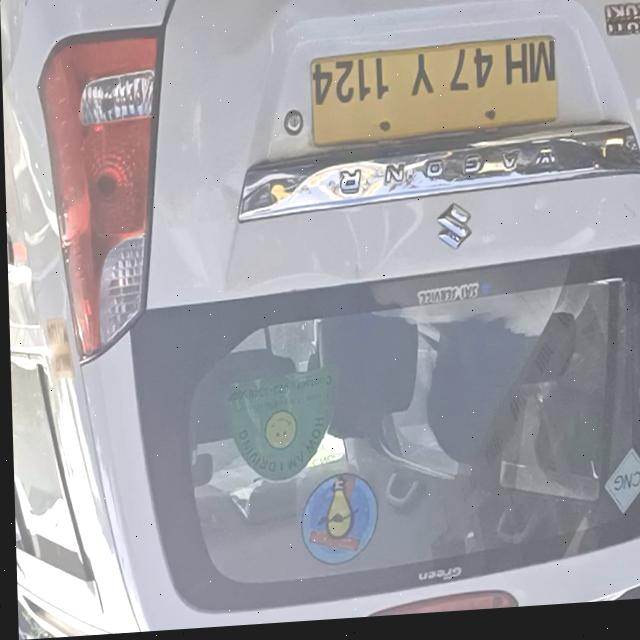plate: (292, 42, 566, 159)
